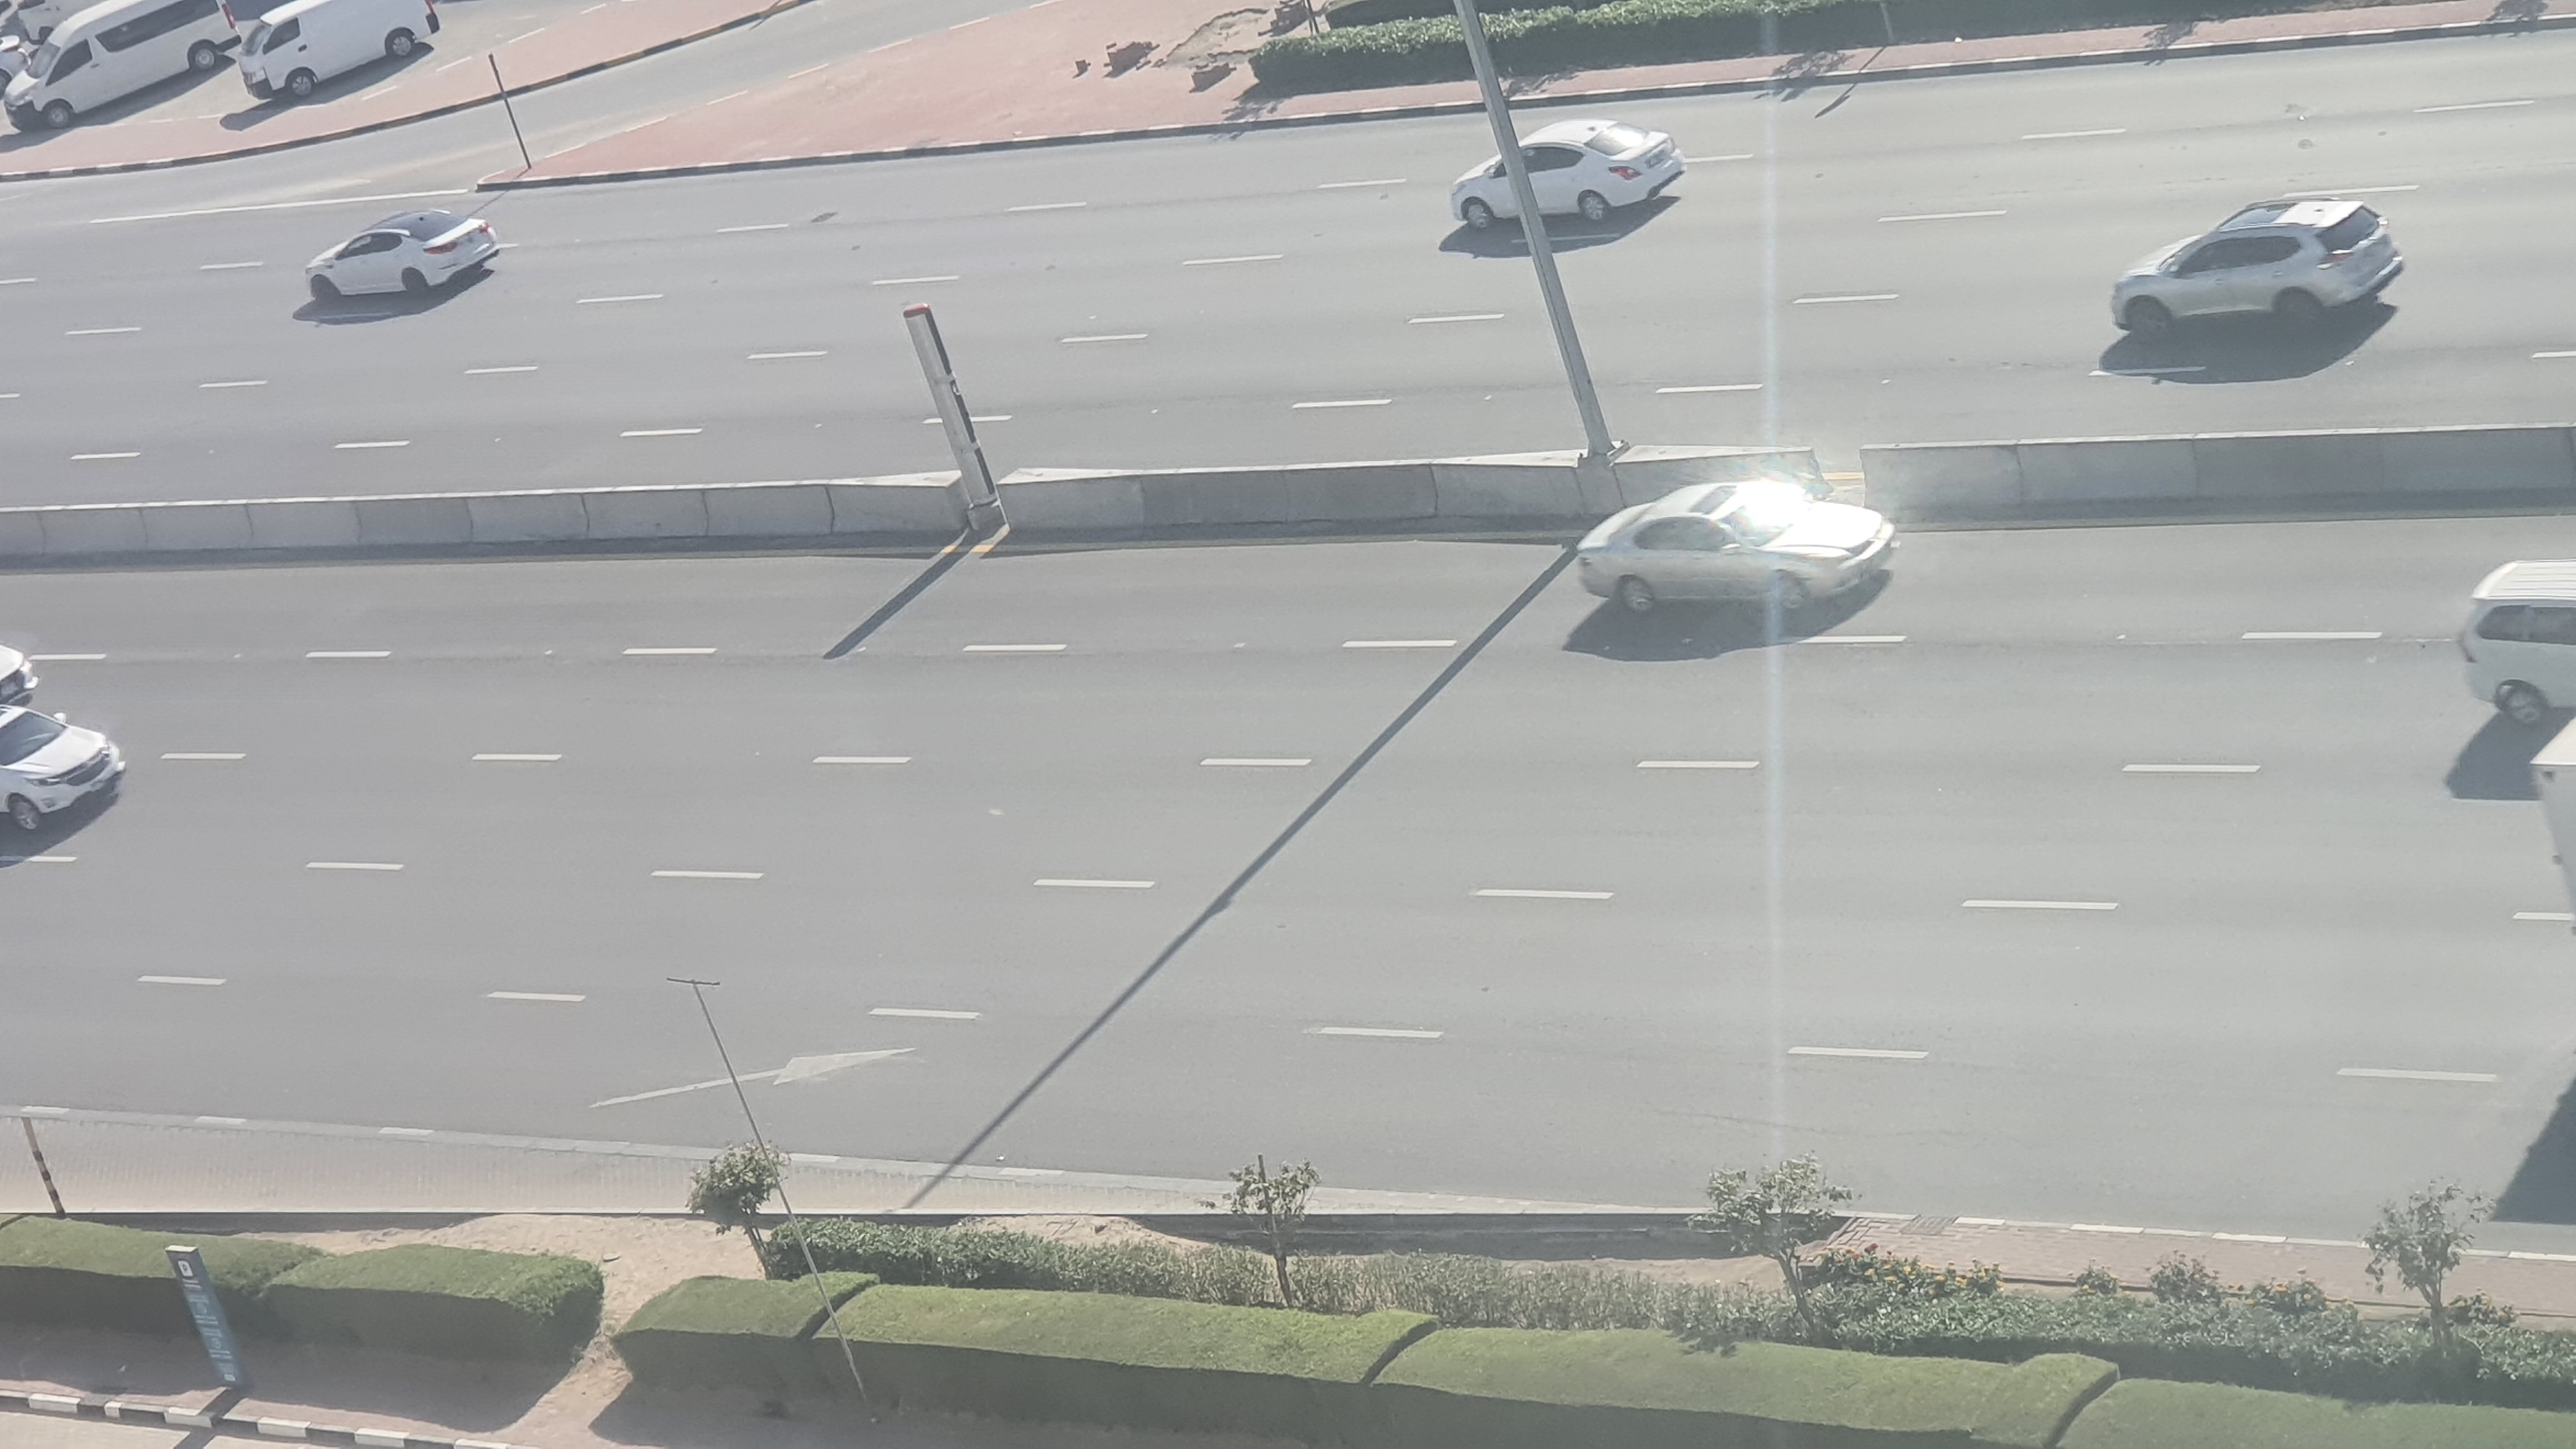Sunroof: (1573, 478, 1902, 628)
